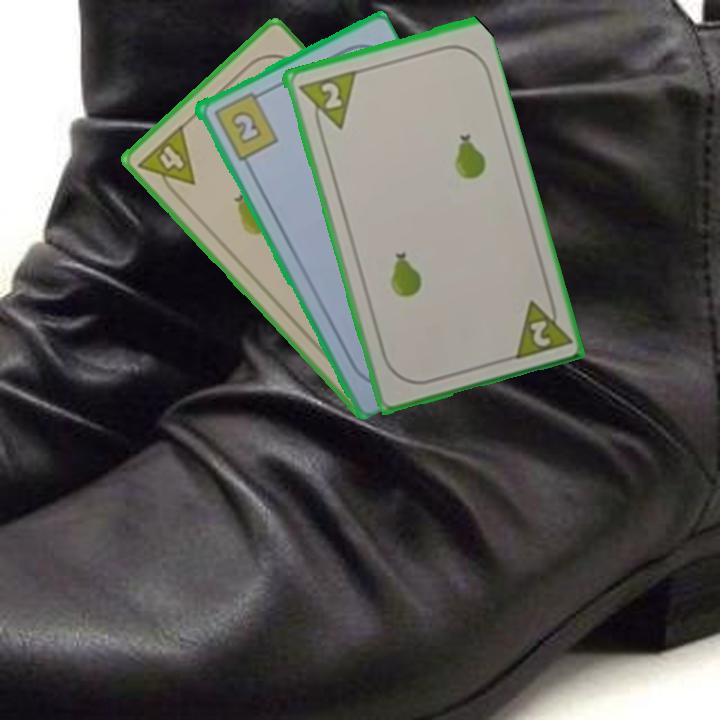2b: (209, 87, 281, 163)
2p: (508, 289, 572, 363), (294, 66, 358, 137)
4p: (134, 121, 198, 202)
